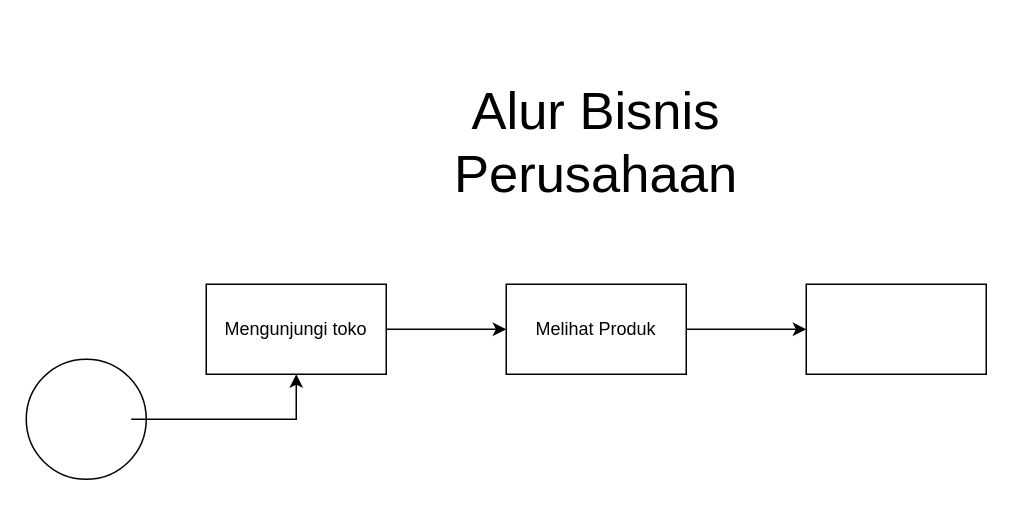
The diagram is 1013 pixels wide and 506 high, and some of its shapes have lost their labels. The shapes that lost their labels are listed below. From the top down, each one's box as (x1, y1, x2, y2) in pixels, then its label:
(805, 283, 986, 374): Membeli Produk
(25, 358, 146, 479): User
